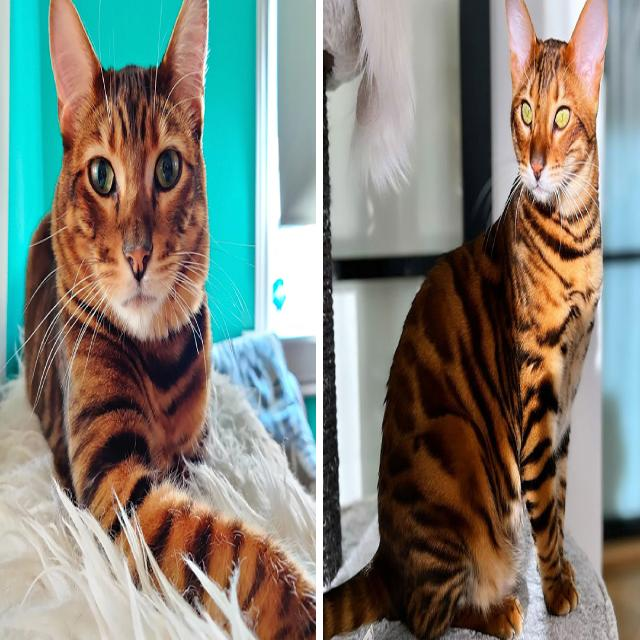Toyger: (20, 0, 315, 640), (322, 0, 612, 640)
